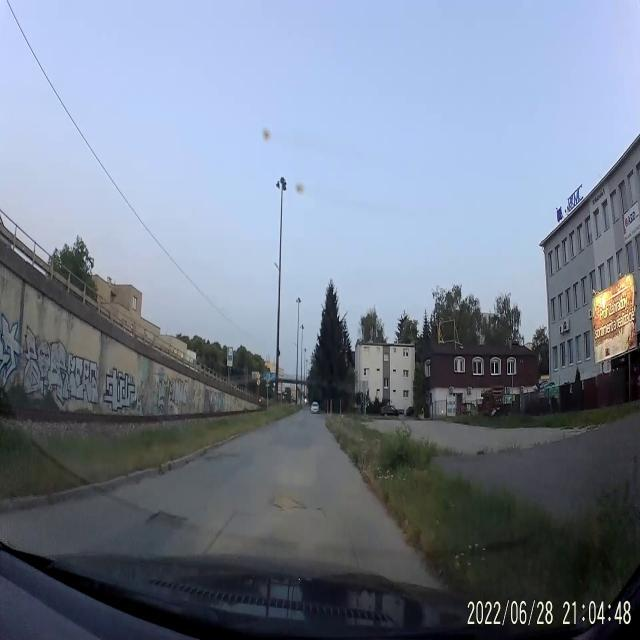Pothole: (268, 492, 310, 516), (146, 505, 184, 530), (202, 449, 220, 464)
